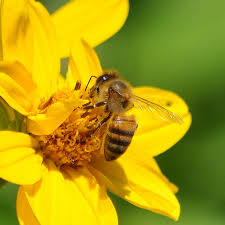bee: (80, 64, 185, 169)
